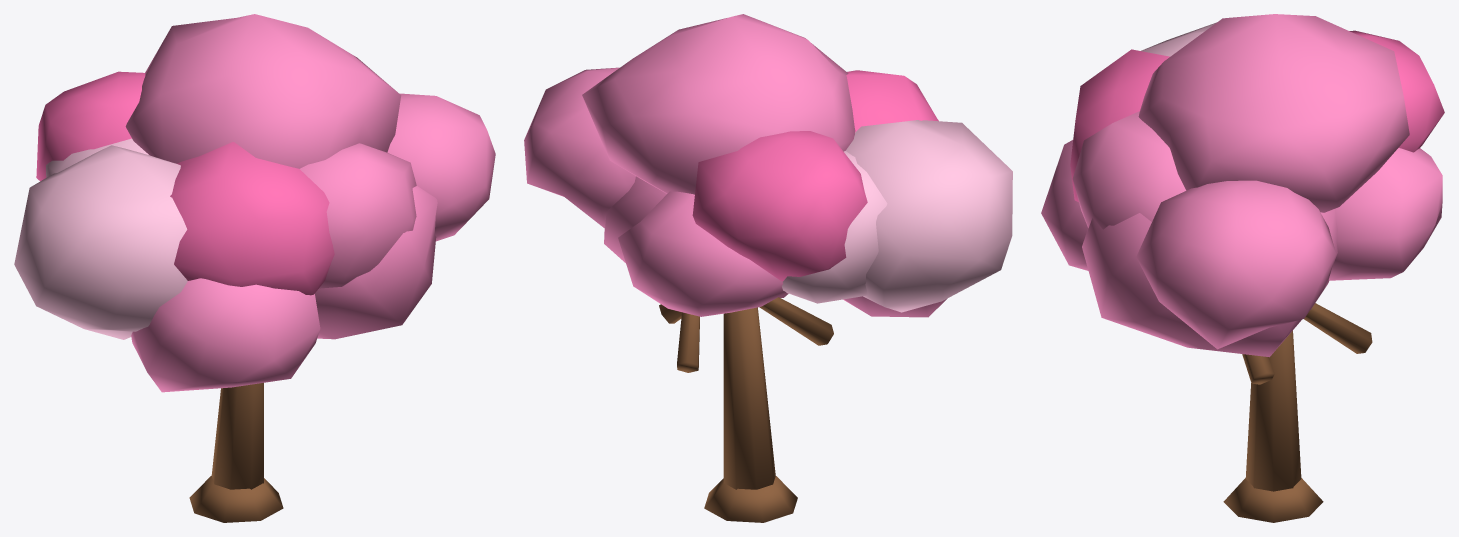
File: tree_cherry.glb
3 views of the same model, side by side, from view 1: azimuth 30°, elevation 25°; view 2: azimuth 150°, elevation 25°; view 3: azimuth 270°, elevation 25° (orthographic). The views are drawn at different scales.
Visible parts, largest first — view 1: tree_cherry; view 2: tree_cherry; view 3: tree_cherry.
Boxes of the visible parts, x1=… form: tree_cherry: x1=14, y1=14, x2=495, y2=522; tree_cherry: x1=524, y1=14, x2=1012, y2=522; tree_cherry: x1=1041, y1=14, x2=1444, y2=522.
Bounding box in the file's own units: 5.96 × 6.02 × 4.43.
